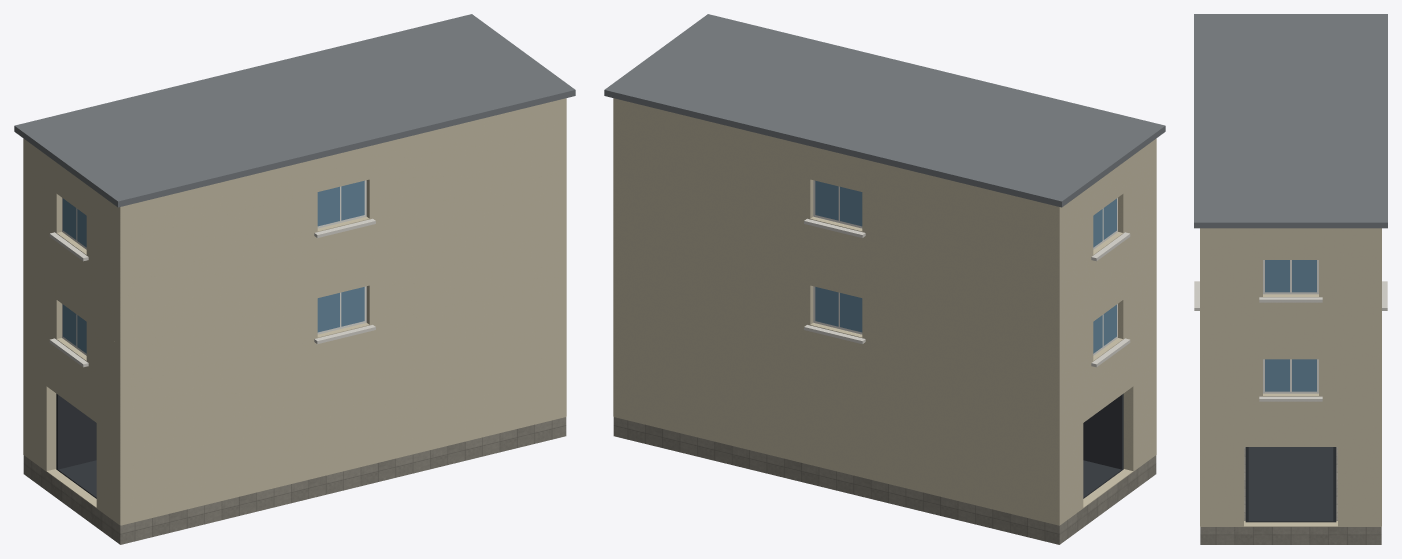
3 renders of one model, left to right at view 1: azimuth 30°, elevation 25°; view 2: azimuth 150°, elevation 25°; view 3: azimuth 270°, elevation 25°, orthographic. The views are drawn at different scales.
Visible parts, largest first — view 1: link-s__cream, link-s__greyroof, link-s__stone, link-s__sideglass, link-s__dark, link-s__white, link-s__frame; view 2: link-s__cream, link-s__greyroof, link-s__stone, link-s__sideglass, link-s__dark, link-s__white, link-s__frame; view 3: link-s__cream, link-s__greyroof, link-s__dark, link-s__stone, link-s__sideglass, link-s__white, link-s__frame.
Boxes of the visible parts, <box> form: link-s__cream: <box>23,98,566,525</box>; link-s__greyroof: <box>14,14,575,207</box>; link-s__stone: <box>23,417,566,544</box>; link-s__sideglass: <box>63,180,364,353</box>; link-s__dark: <box>56,393,96,498</box>; link-s__white: <box>49,218,375,367</box>; link-s__frame: <box>62,180,366,355</box>; link-s__cream: <box>613,98,1156,525</box>; link-s__greyroof: <box>604,14,1165,207</box>; link-s__stone: <box>613,417,1156,544</box>; link-s__sideglass: <box>815,180,1116,353</box>; link-s__dark: <box>1083,393,1123,498</box>; link-s__white: <box>804,218,1130,367</box>; link-s__frame: <box>813,180,1117,355</box>; link-s__cream: <box>1200,228,1381,526</box>; link-s__greyroof: <box>1194,14,1387,228</box>; link-s__dark: <box>1245,447,1336,522</box>; link-s__stone: <box>1200,447,1381,544</box>; link-s__sideglass: <box>1265,260,1316,391</box>; link-s__white: <box>1194,281,1387,401</box>; link-s__frame: <box>1263,260,1318,393</box>.
Size of the model in its own units: 15.8 by 11.46 by 6.2.
Materials: 7 (3 with a texture image).
